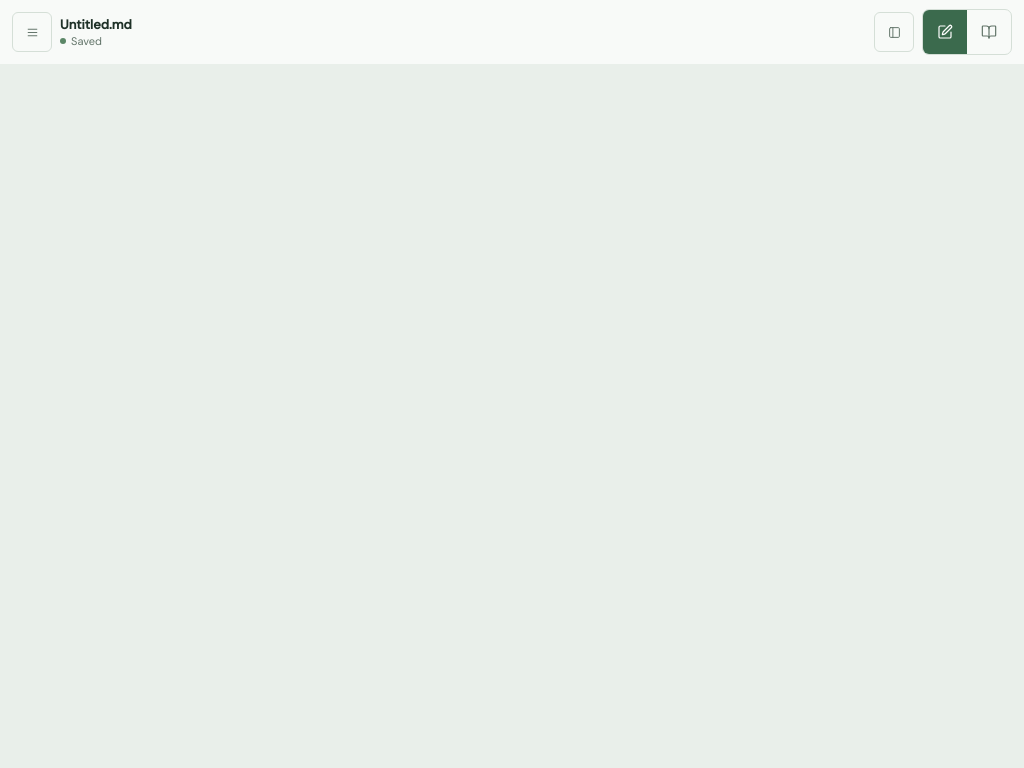
Test case: MobileToolbarActions › offers Install App when the app can be installed
Click the button named "Menu": point(32, 32) x1=12 y1=12 x2=52 y2=52
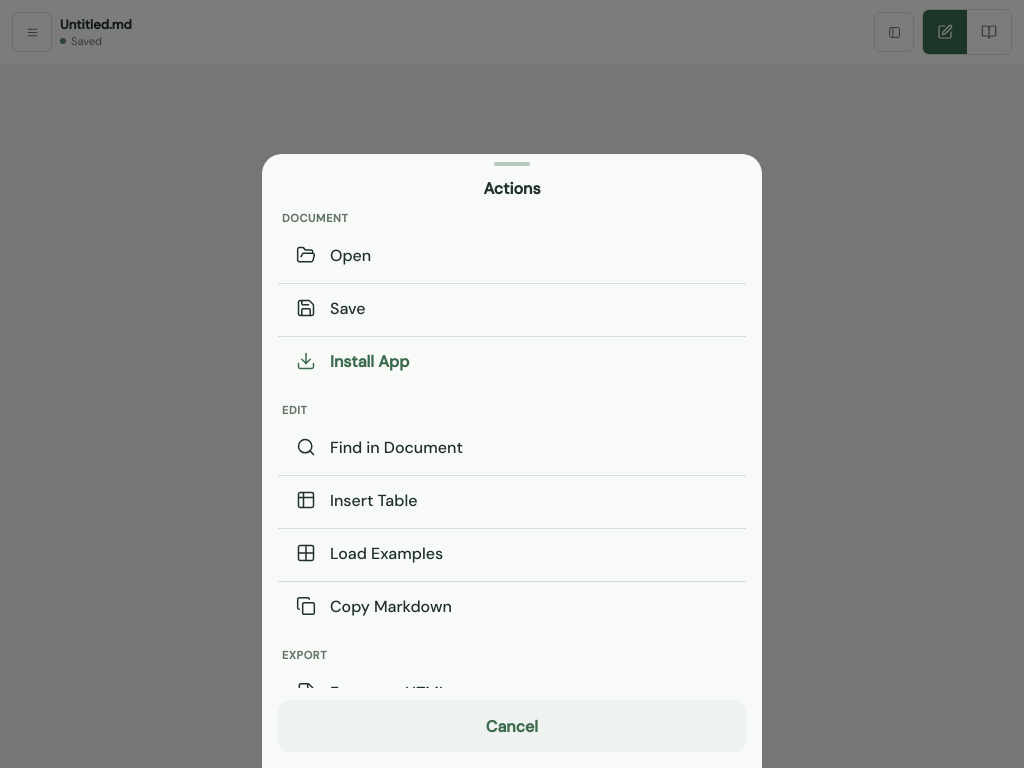
Expected: the button with class "mobile-action-sheet__action" showing "Install App" is shown, x1=278 y1=337 x2=746 y2=389
